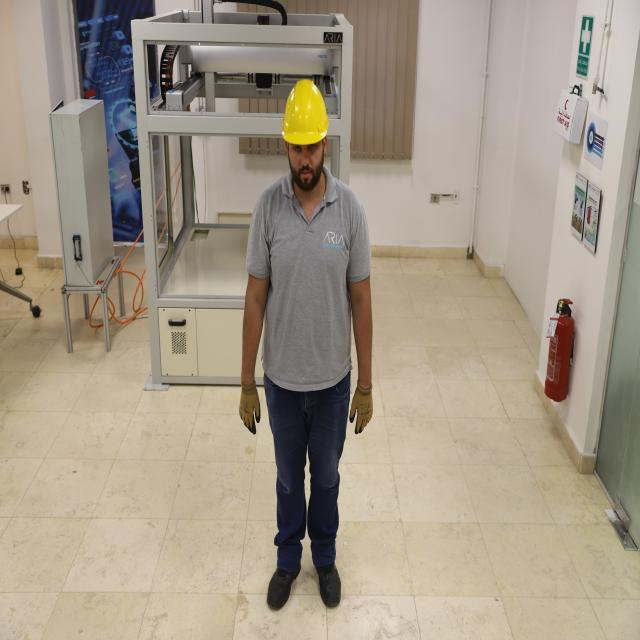glove: (349, 382, 377, 436), (238, 378, 261, 434)
helmet: (278, 80, 332, 148)
pants: (262, 370, 353, 570)
